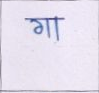aa_matra: (55, 19, 59, 40)
